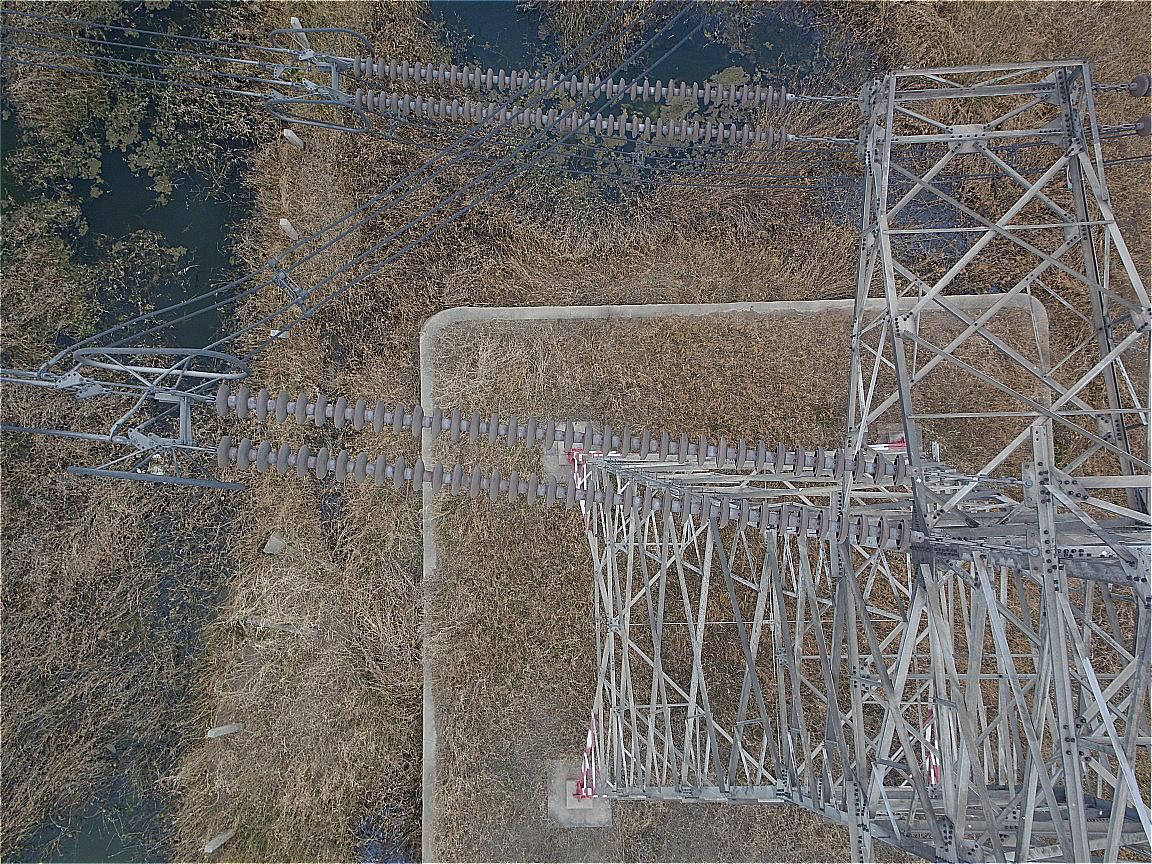insultor1: (214, 385, 912, 555), (354, 57, 789, 148)
